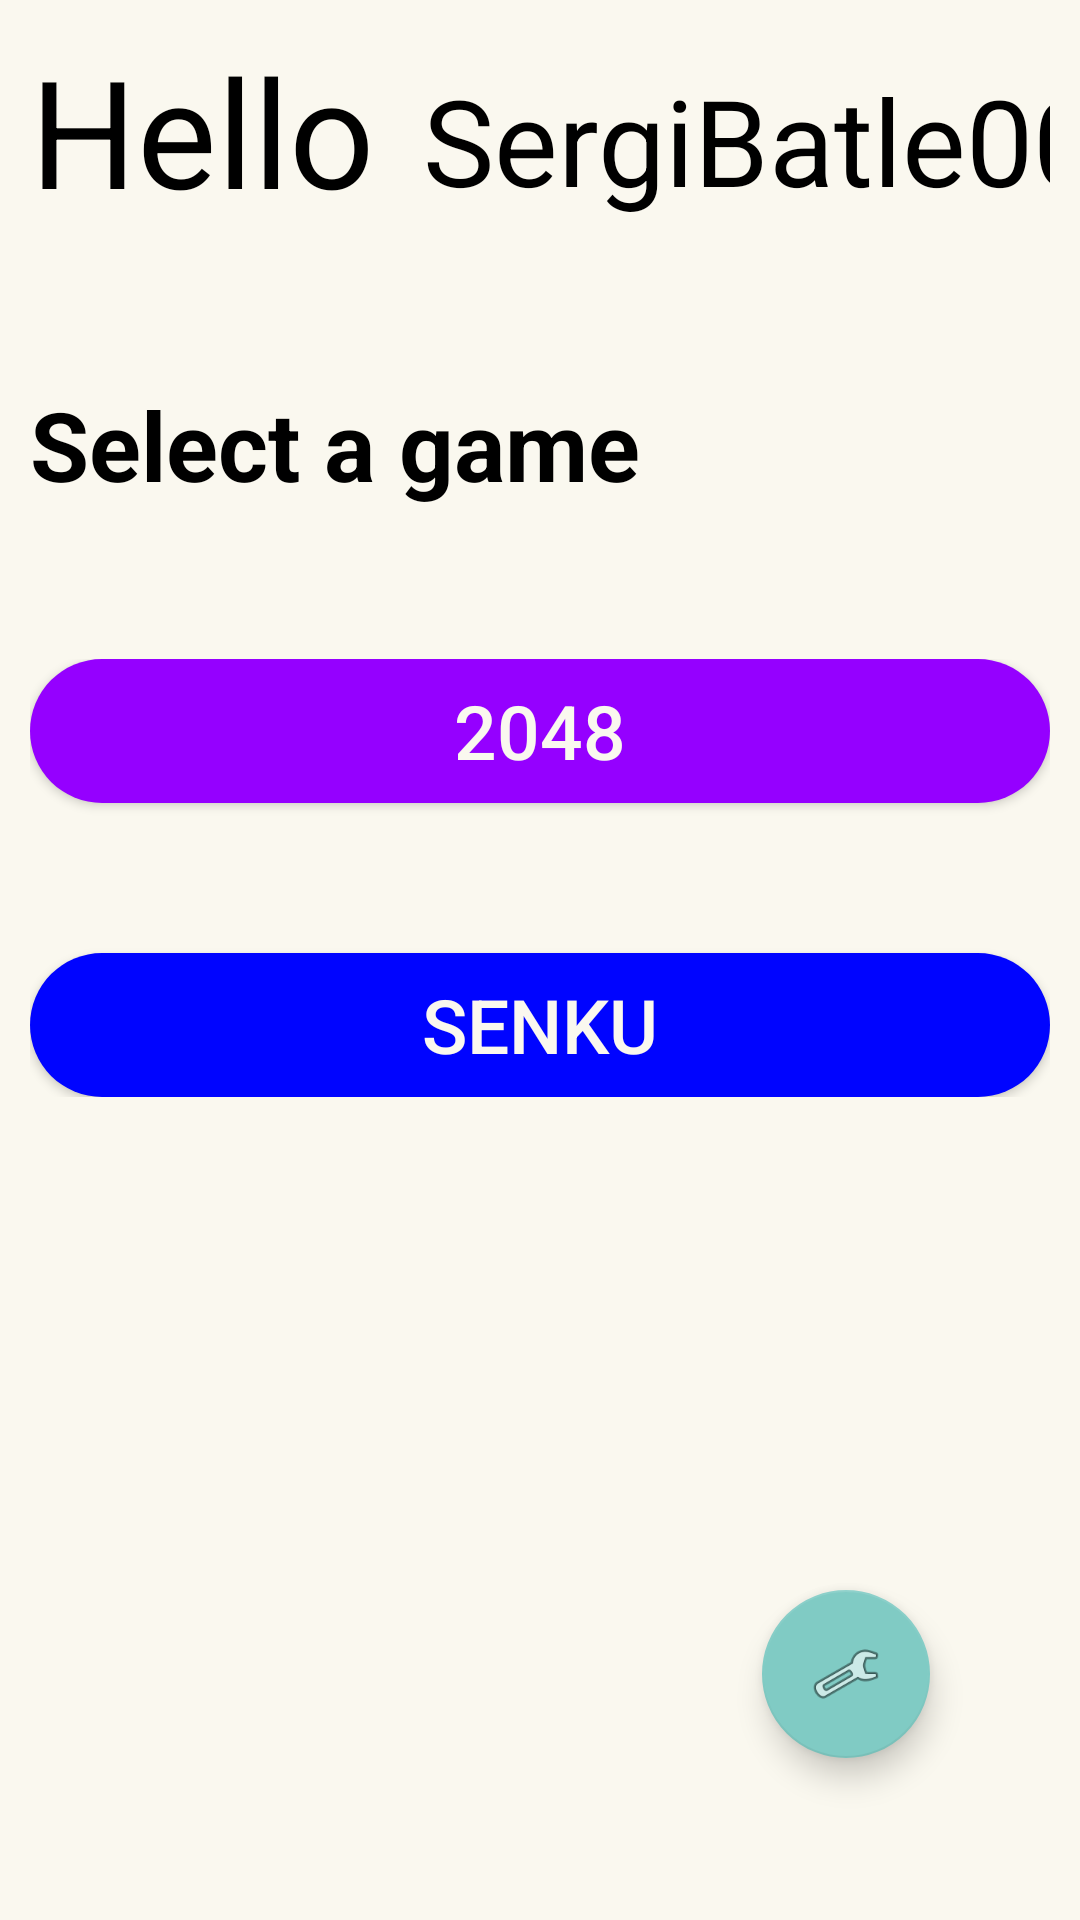

Where icons sit on this 1080x1920 app screen, as (x1, y1, x2, y2):
manage: (762, 1590, 930, 1758)
